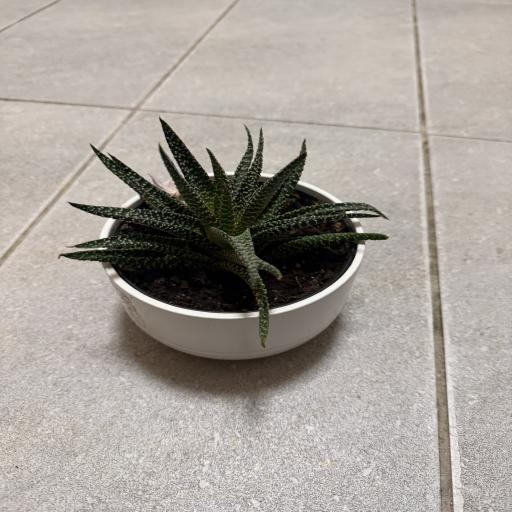Plant Pot: (98, 172, 365, 359)
